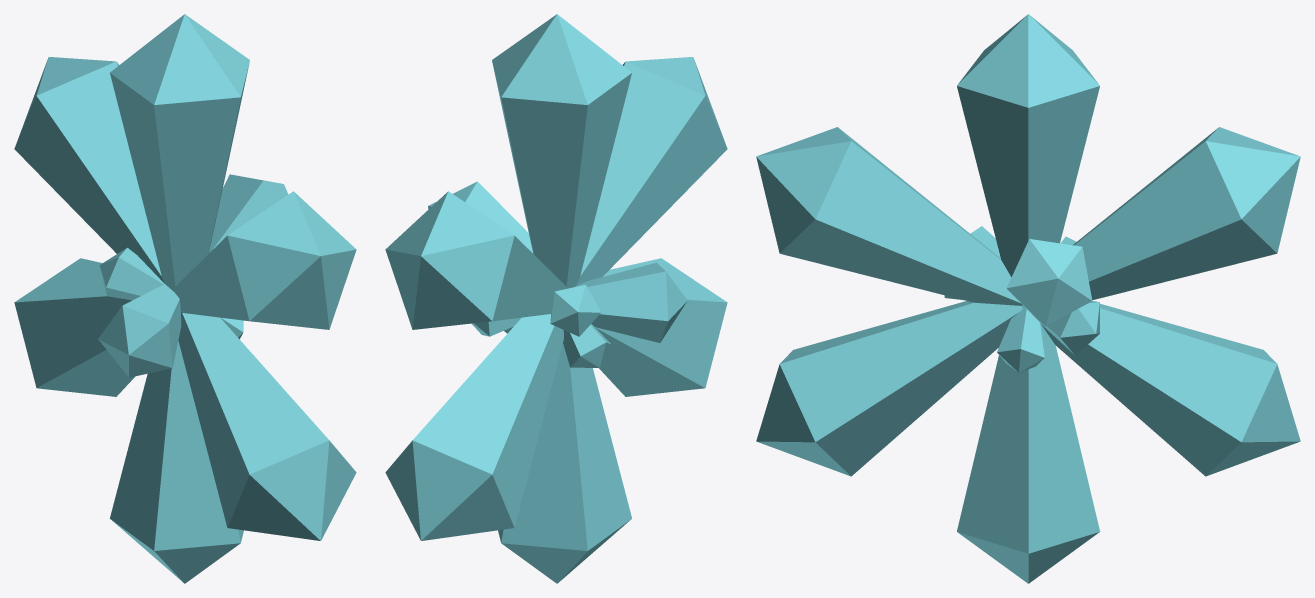
Rendered from SM_Ice.fbx.
3 views of the same model, side by side, from view 1: azimuth 30°, elevation 25°; view 2: azimuth 150°, elevation 25°; view 3: azimuth 270°, elevation 25° (orthographic).
Visible parts, largest first — view 1: Cylinder003; view 2: Cylinder003; view 3: Cylinder003.
Part boxes in pixels (bbox=[...]): Cylinder003: bbox=[14, 14, 356, 583]; Cylinder003: bbox=[385, 14, 727, 583]; Cylinder003: bbox=[756, 14, 1300, 583].
Bounding box in the file's own units: 19.98 × 51.09 × 44.24.
